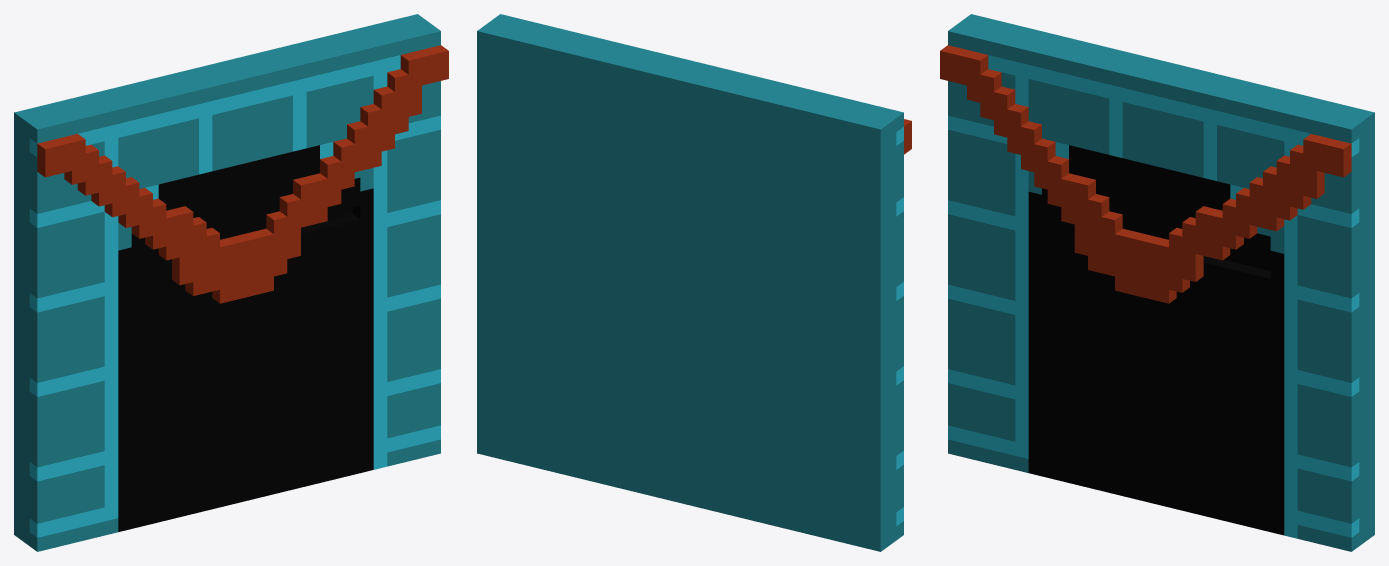
File: ice wall door.gltf
The picture shows the model from 3 angles, left to right: view 1: azimuth 30°, elevation 25°; view 2: azimuth 150°, elevation 25°; view 3: azimuth 330°, elevation 25°; orthographic projection.
Visible parts, largest first — view 1: Layer.1, decore; view 2: Layer.1; view 3: Layer.1, decore.
Boxes of the visible parts, bbox=[...] form: Layer.1: bbox=[14, 14, 440, 551]; decore: bbox=[37, 45, 448, 303]; Layer.1: bbox=[477, 14, 903, 551]; Layer.1: bbox=[948, 14, 1374, 551]; decore: bbox=[940, 45, 1351, 303].
Bounding box in the file's own units: 30 × 30 × 4.
1 material, 1 textured.
